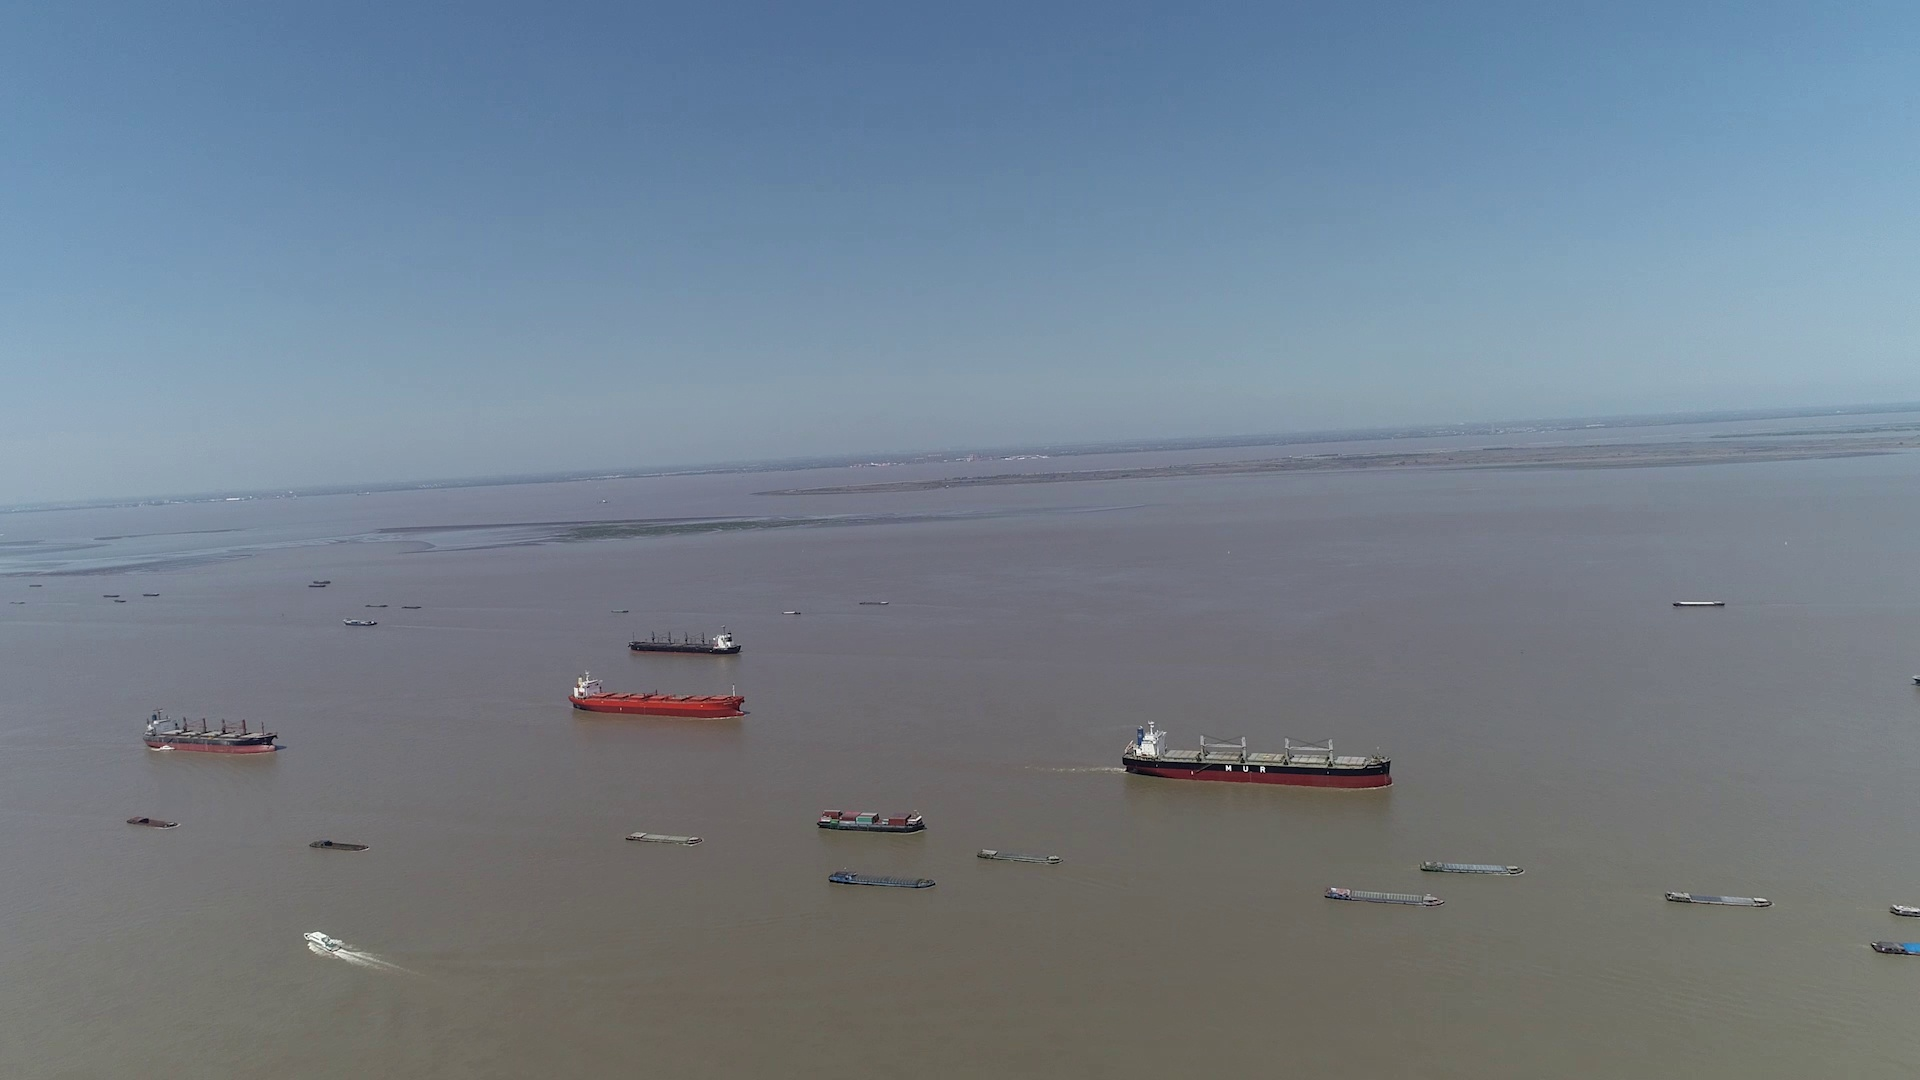ship: (1120, 720, 1389, 791), (568, 671, 744, 717), (142, 705, 277, 754), (629, 626, 742, 655), (816, 806, 924, 832), (1324, 886, 1444, 907), (828, 869, 938, 889), (1664, 887, 1774, 907), (1420, 860, 1522, 876), (975, 847, 1062, 864), (624, 829, 705, 845), (303, 930, 342, 953), (311, 837, 372, 851), (1874, 947, 1919, 963), (125, 815, 174, 828), (1673, 597, 1727, 607), (1890, 903, 1917, 919), (347, 617, 377, 626)
